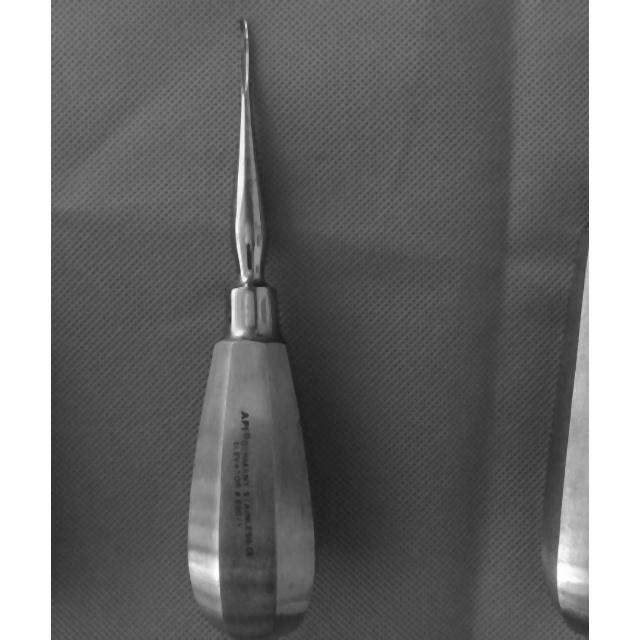botador: (187, 20, 317, 639)
